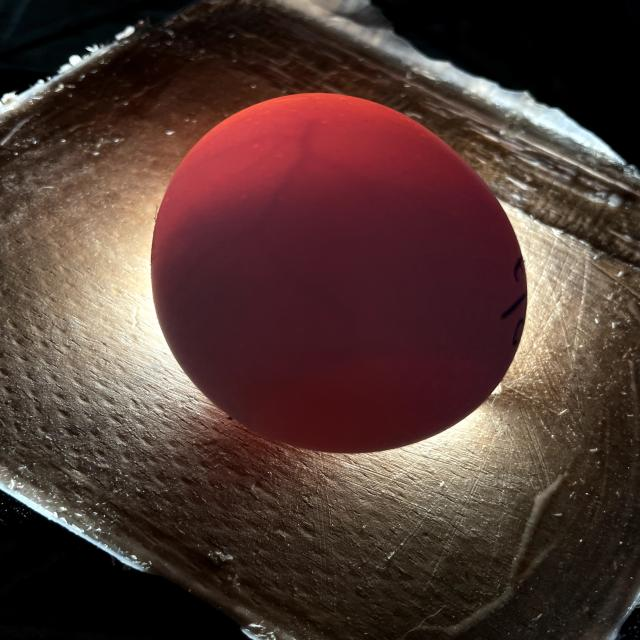fertile: (152, 94, 527, 453)
